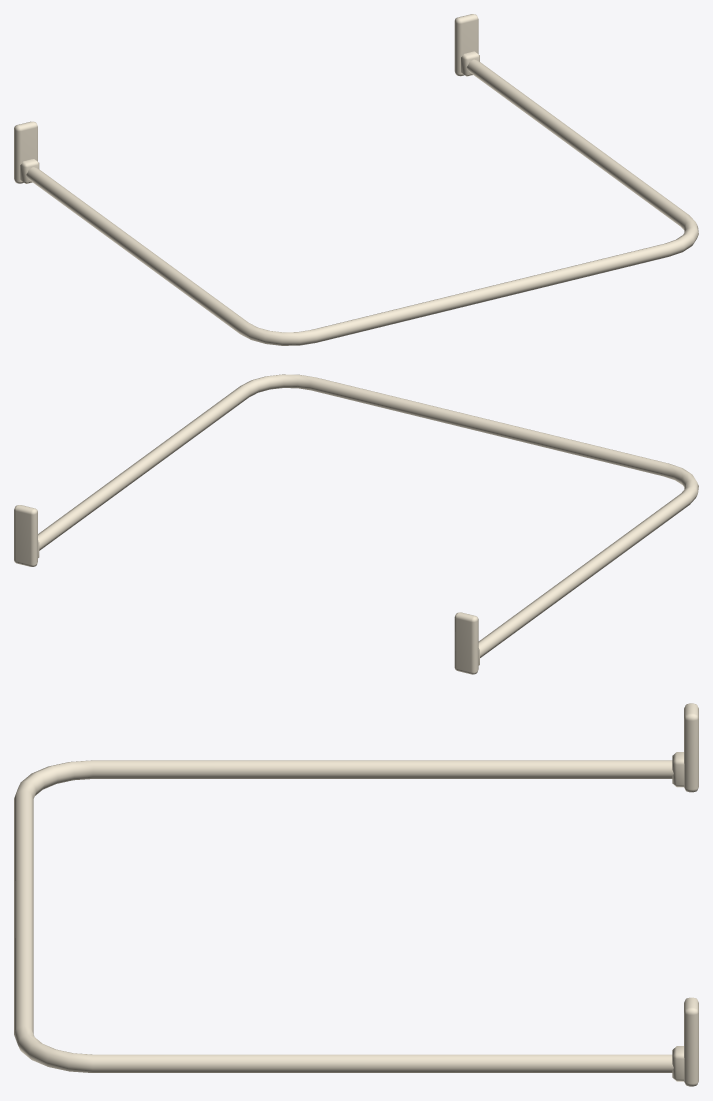
The model's file is Recovery_Curtain_Rail_U.glb.
3 views of the same model, one above another, from view 1: azimuth 30°, elevation 25°; view 2: azimuth 150°, elevation 25°; view 3: azimuth 270°, elevation 25° (orthographic). The views are drawn at different scales.
Parts seen in each view (by area): view 1: Recovery_Curtain_Rail_U__Visual; view 2: Recovery_Curtain_Rail_U__Visual; view 3: Recovery_Curtain_Rail_U__Visual.
Part boxes in pixels (<box>): Recovery_Curtain_Rail_U__Visual: <box>14,14,698,345</box>; Recovery_Curtain_Rail_U__Visual: <box>14,374,698,674</box>; Recovery_Curtain_Rail_U__Visual: <box>14,703,698,1086</box>.
Size of the model in its own units: 2.43 by 0.29 by 2.28.
1 material, 1 textured.
